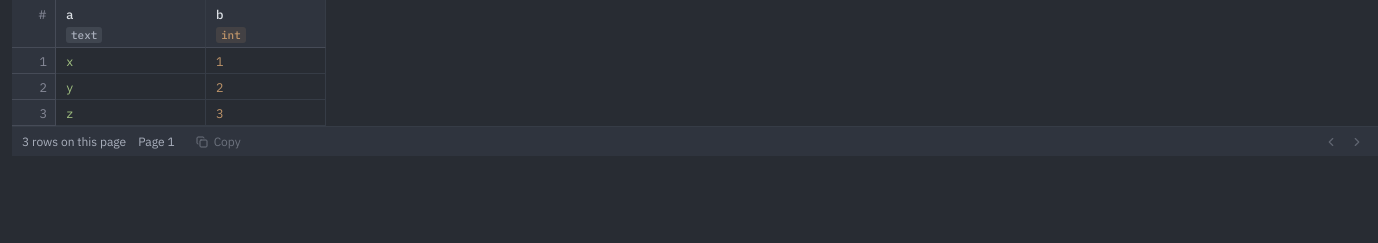
Test: ResultsGrid › row menu › selects an unselected row on right-click and shows "1 row"
Right-click the text "y".
right_click(70, 87)  # box x1=66 y1=79 x2=74 y2=95
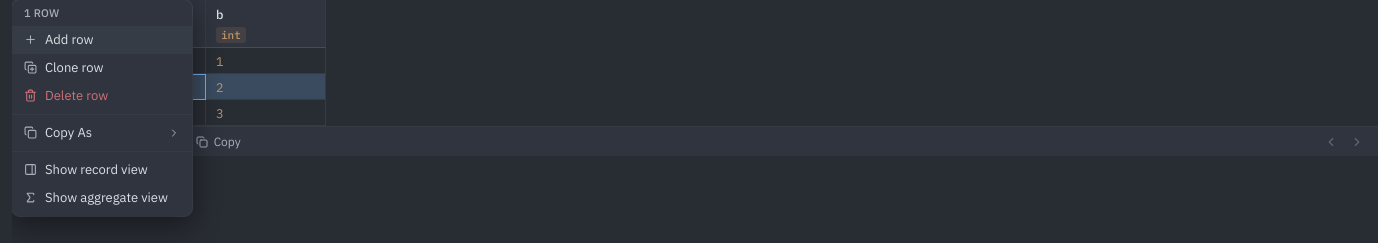
Expected: the menu named "Row actions" is shown, x1=12 y1=0 x2=192 y2=216
Expected: the text "1 row" is shown, x1=24 y1=6 x2=60 y2=20
